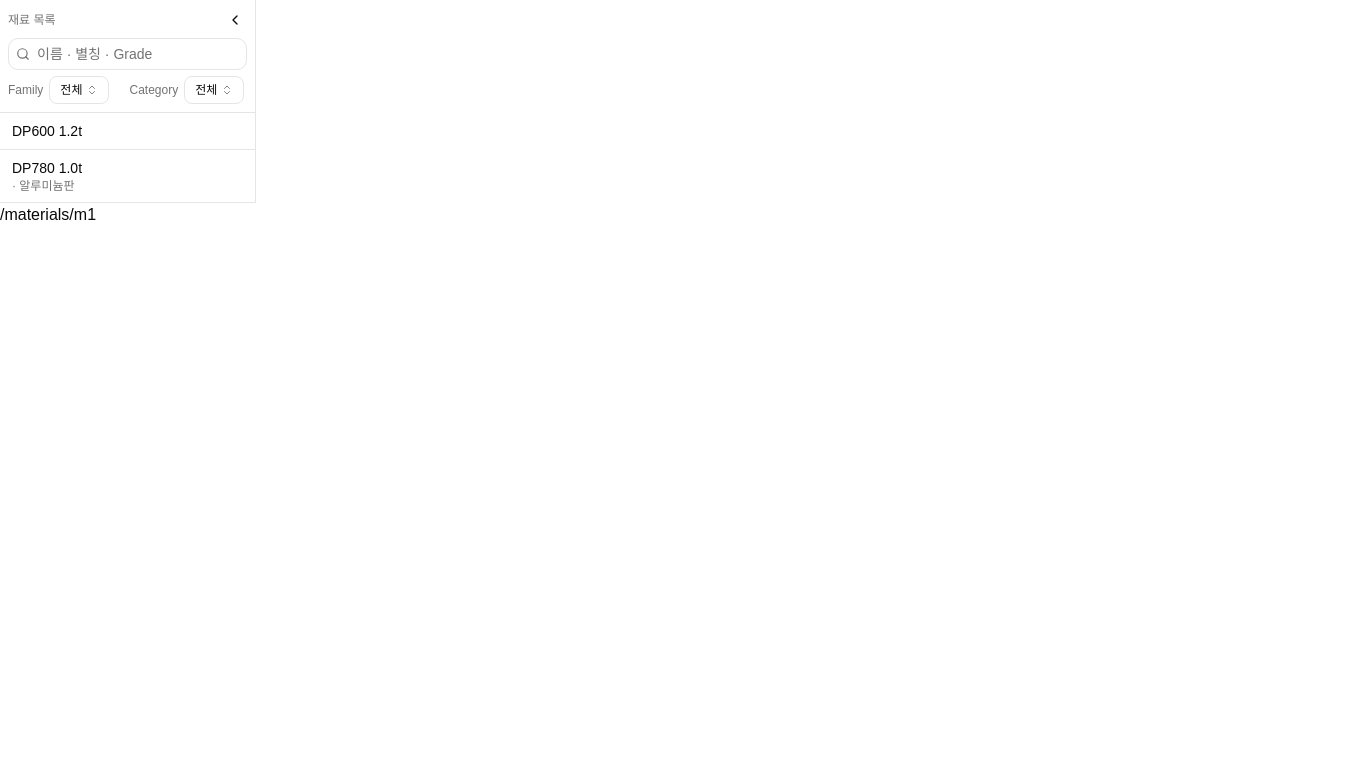
Test: 재료 목록 옆패널 › Category 는 고른 Family 안의 것만 보인다
Click the button with aria-label "Family": (79, 90) [49, 76, 109, 104]
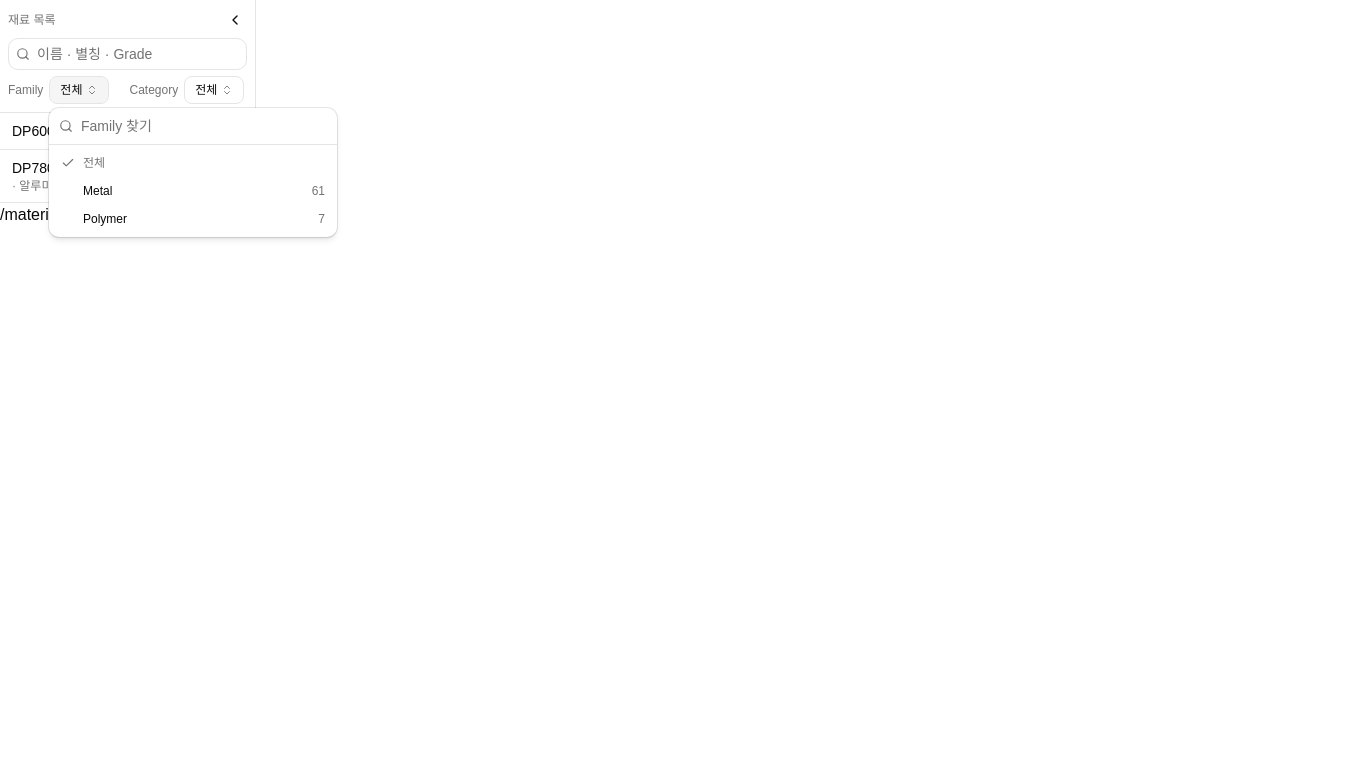
Click the text "Metal": (98, 191) [83, 184, 112, 198]
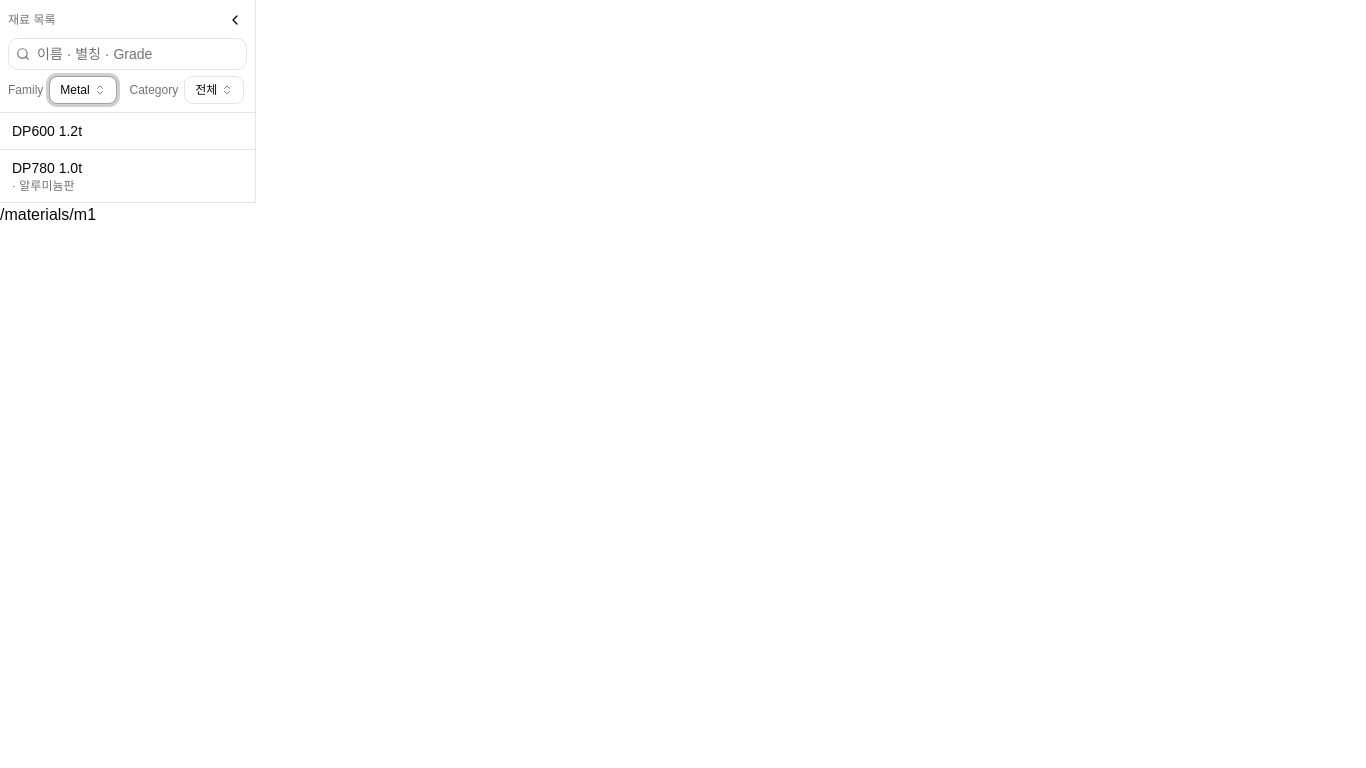
Click the button with aria-label "Category": (214, 90) [184, 76, 244, 104]
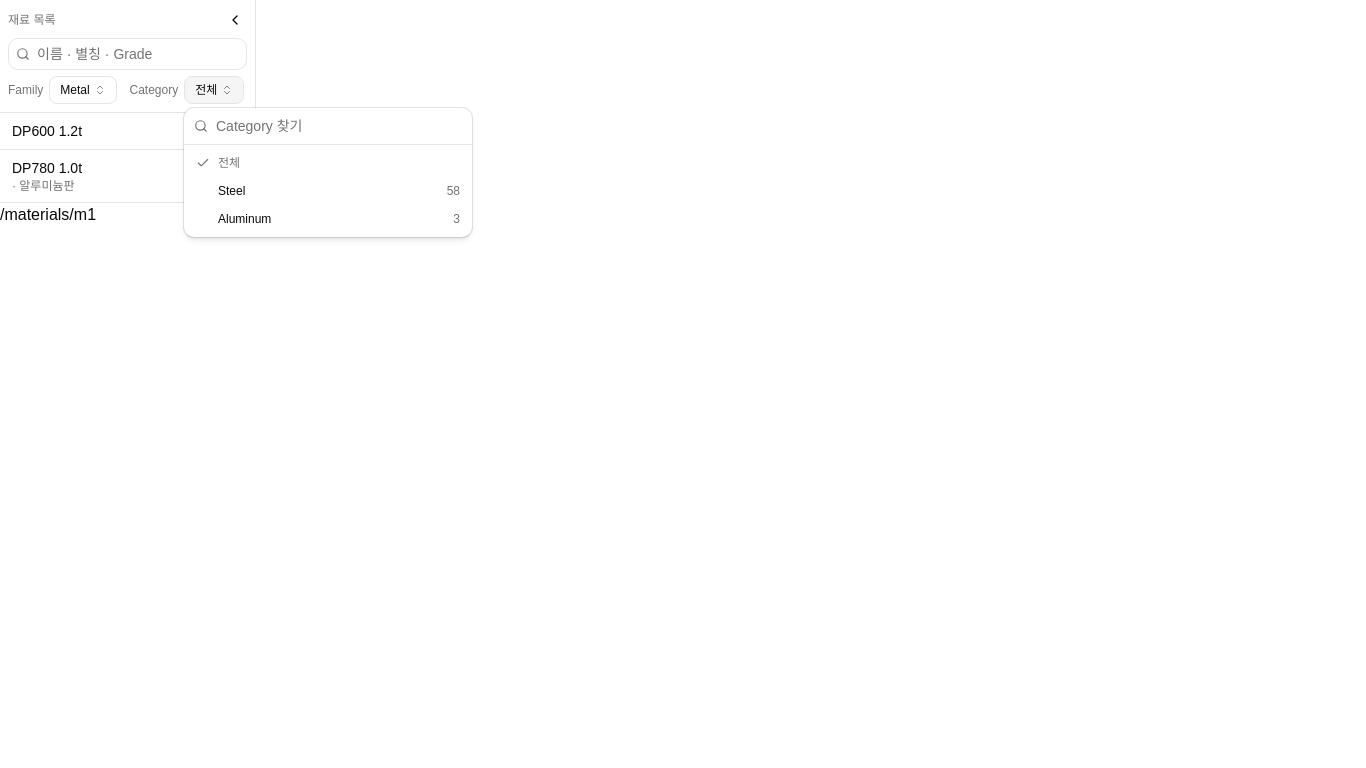
Result: the text "Steel" is shown at [218, 184, 245, 198]
Result: the text "Aluminum" is shown at [218, 212, 271, 226]
